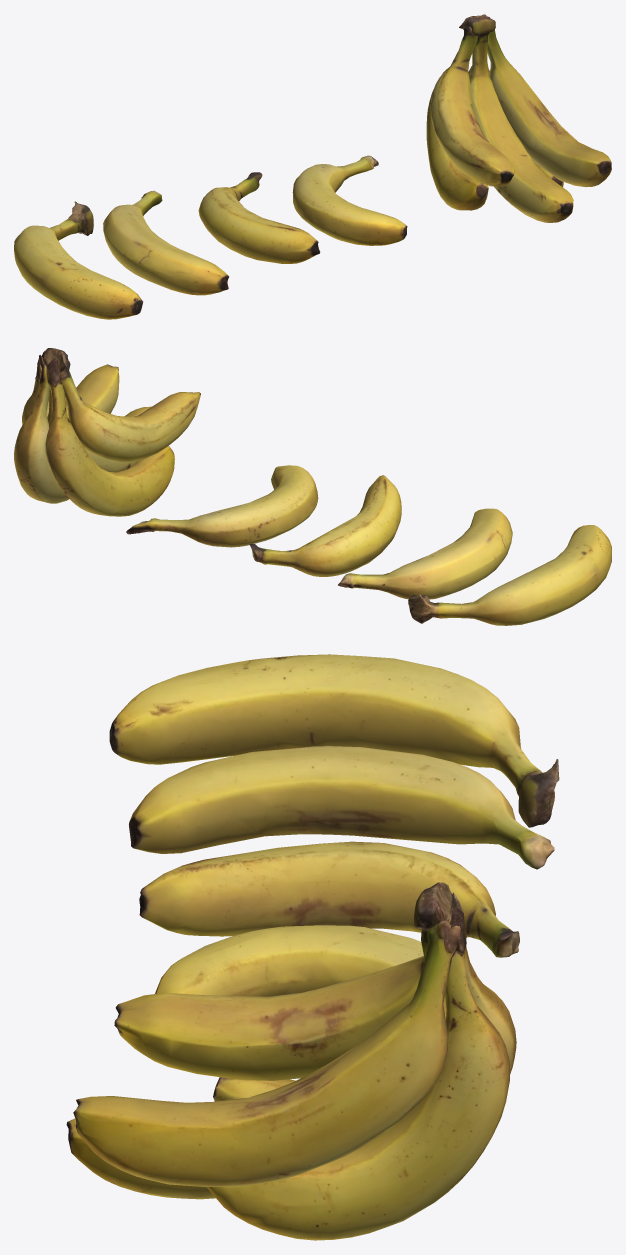
Rendered from bananas.glb.
3 renders of one model, top to bottom at view 1: azimuth 30°, elevation 25°; view 2: azimuth 150°, elevation 25°; view 3: azimuth 270°, elevation 25°, orthographic. The views are drawn at different scales.
Visible parts, largest first — view 1: bananas_bunch; view 2: bananas_bunch; view 3: bananas_bunch.
Boxes of the visible parts, bbox=[...] form: bananas_bunch: bbox=[14, 14, 611, 319]; bananas_bunch: bbox=[14, 348, 611, 625]; bananas_bunch: bbox=[66, 654, 559, 1240].
Size of the model in its own units: 0.6 by 0.1787 by 0.2441.
1 material, 1 textured.
